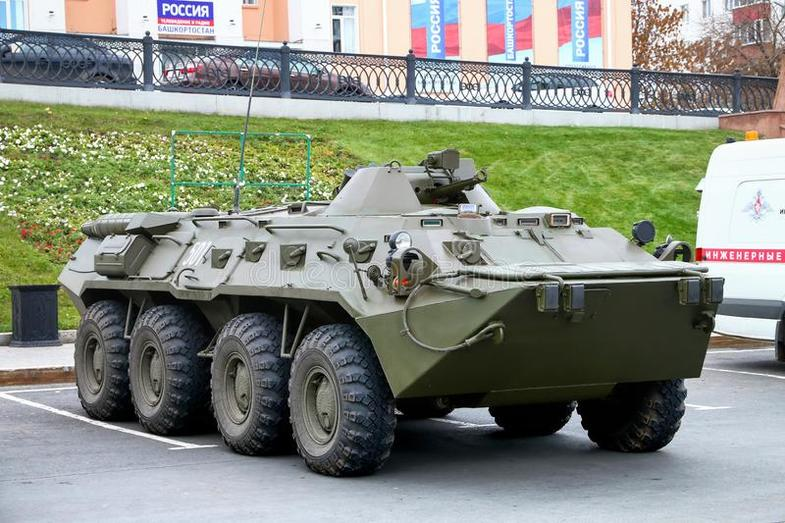btr: (62, 162, 724, 472)
